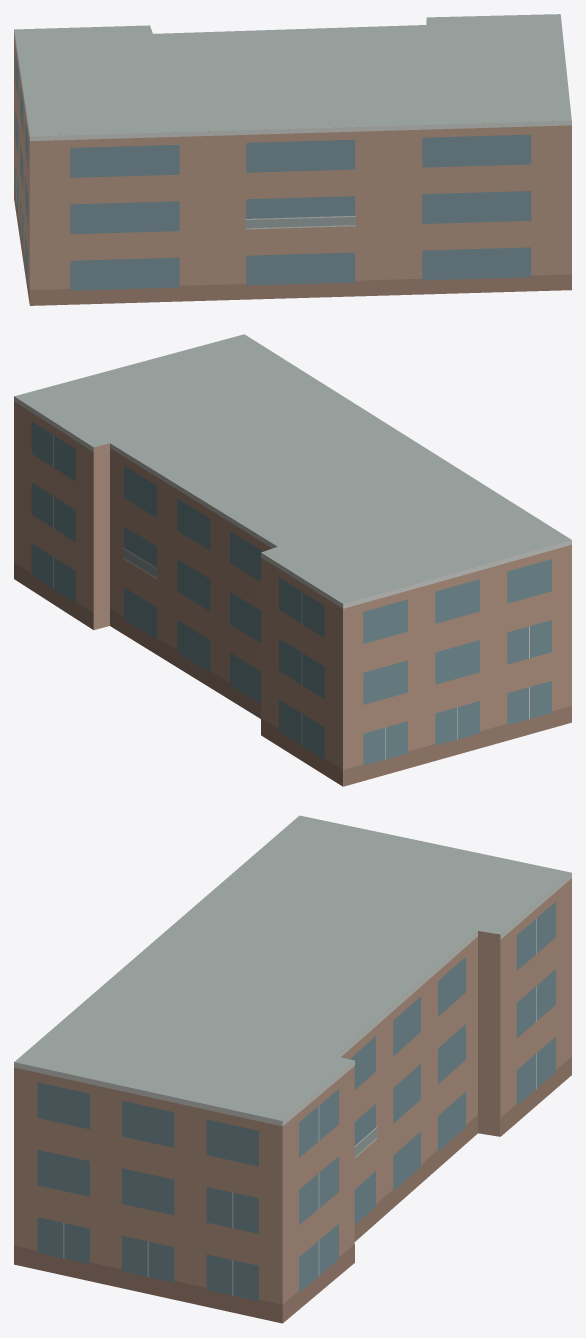
Rendered from survey-upis-32771283.glb.
3 renders of one model, top to bottom at view 1: azimuth 30°, elevation 25°; view 2: azimuth 150°, elevation 25°; view 3: azimuth 270°, elevation 25°, orthographic. The views are drawn at different scales.
Parts seen in each view (by area): view 1: survey-upis-32771283.tmp; view 2: survey-upis-32771283.tmp; view 3: survey-upis-32771283.tmp.
Boxes of the visible parts, x1,y1,x2,y2 form: survey-upis-32771283.tmp: [14, 14, 571, 305]; survey-upis-32771283.tmp: [14, 334, 571, 786]; survey-upis-32771283.tmp: [14, 815, 571, 1323].
Size of the model in its own units: 29.64 by 9.15 by 22.86.
